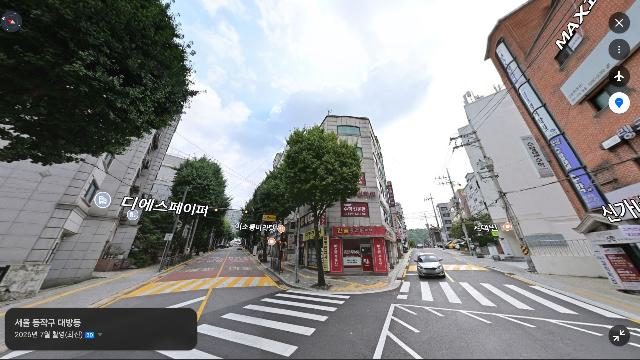other: (0, 0, 206, 167), (275, 123, 364, 288), (169, 154, 232, 271), (246, 167, 302, 267), (135, 209, 177, 272), (443, 206, 487, 257)
